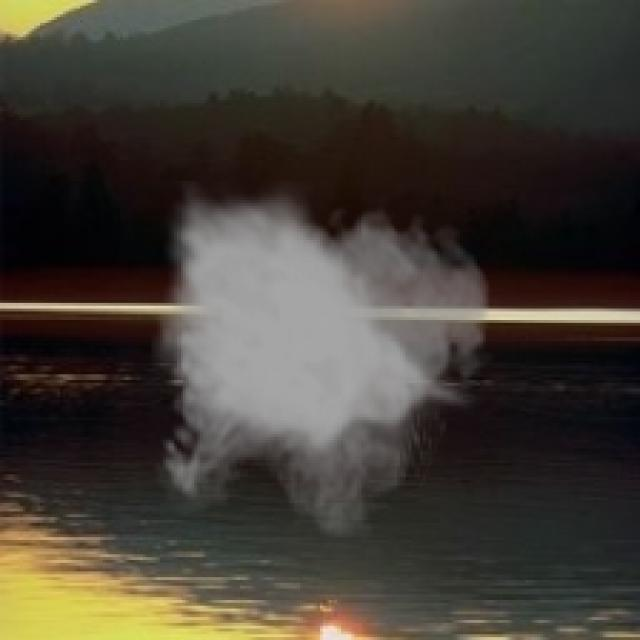smoke: (152, 180, 494, 537)
